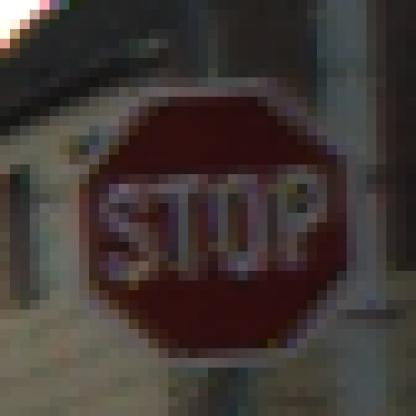Stop: (80, 88, 354, 358)
